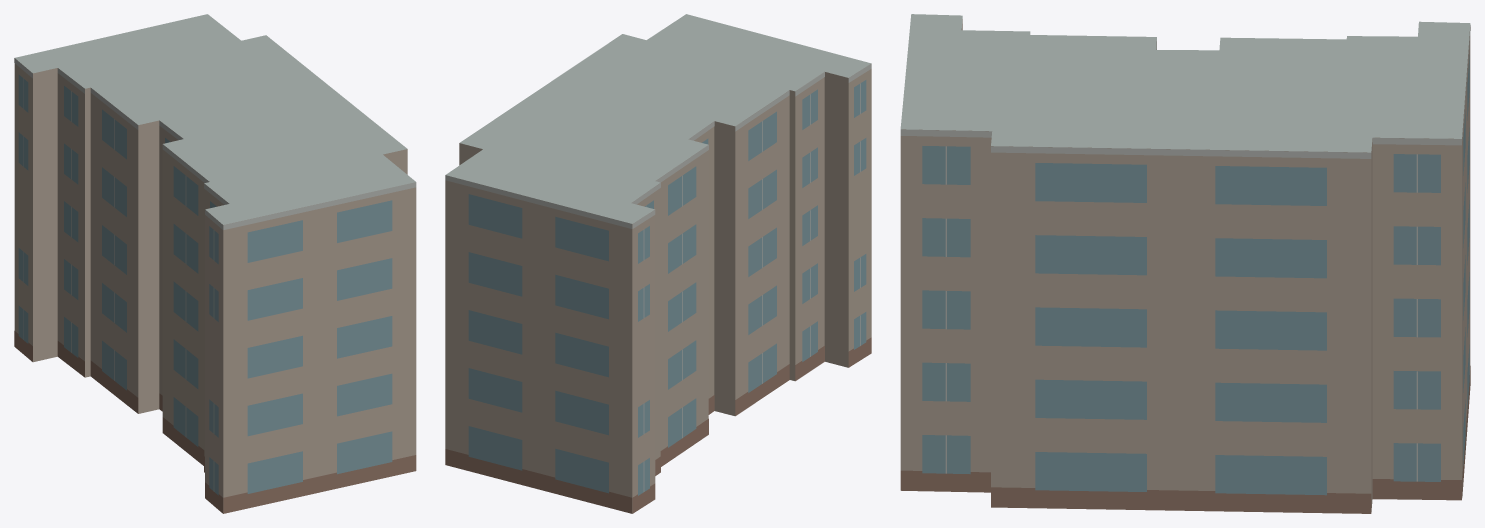
The model's file is survey-upis-32703823.glb.
The picture shows the model from 3 angles, left to right: view 1: azimuth 30°, elevation 25°; view 2: azimuth 150°, elevation 25°; view 3: azimuth 270°, elevation 25°; orthographic projection. The views are drawn at different scales.
Parts seen in each view (by area): view 1: survey-upis-32703823.tmp; view 2: survey-upis-32703823.tmp; view 3: survey-upis-32703823.tmp.
Part boxes in pixels (x1=…): survey-upis-32703823.tmp: x1=14, y1=14, x2=416, y2=513; survey-upis-32703823.tmp: x1=445, y1=14, x2=871, y2=513; survey-upis-32703823.tmp: x1=900, y1=14, x2=1470, y2=513.
Size of the model in its own units: 11.19 by 13.6 by 19.45.
